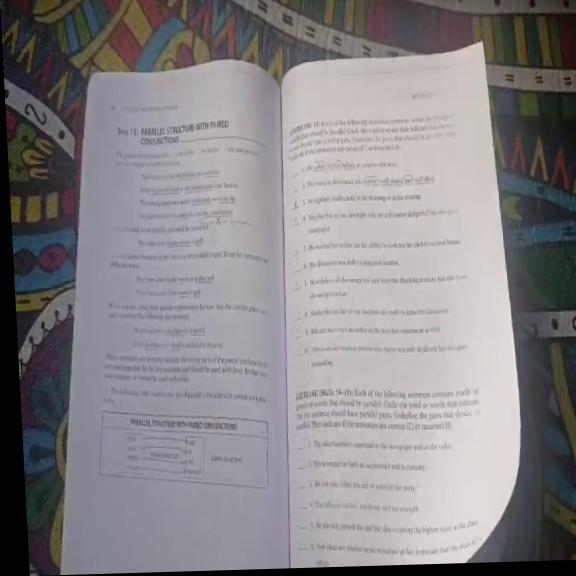Kertas: (218, 55, 510, 569), (90, 72, 366, 573)
